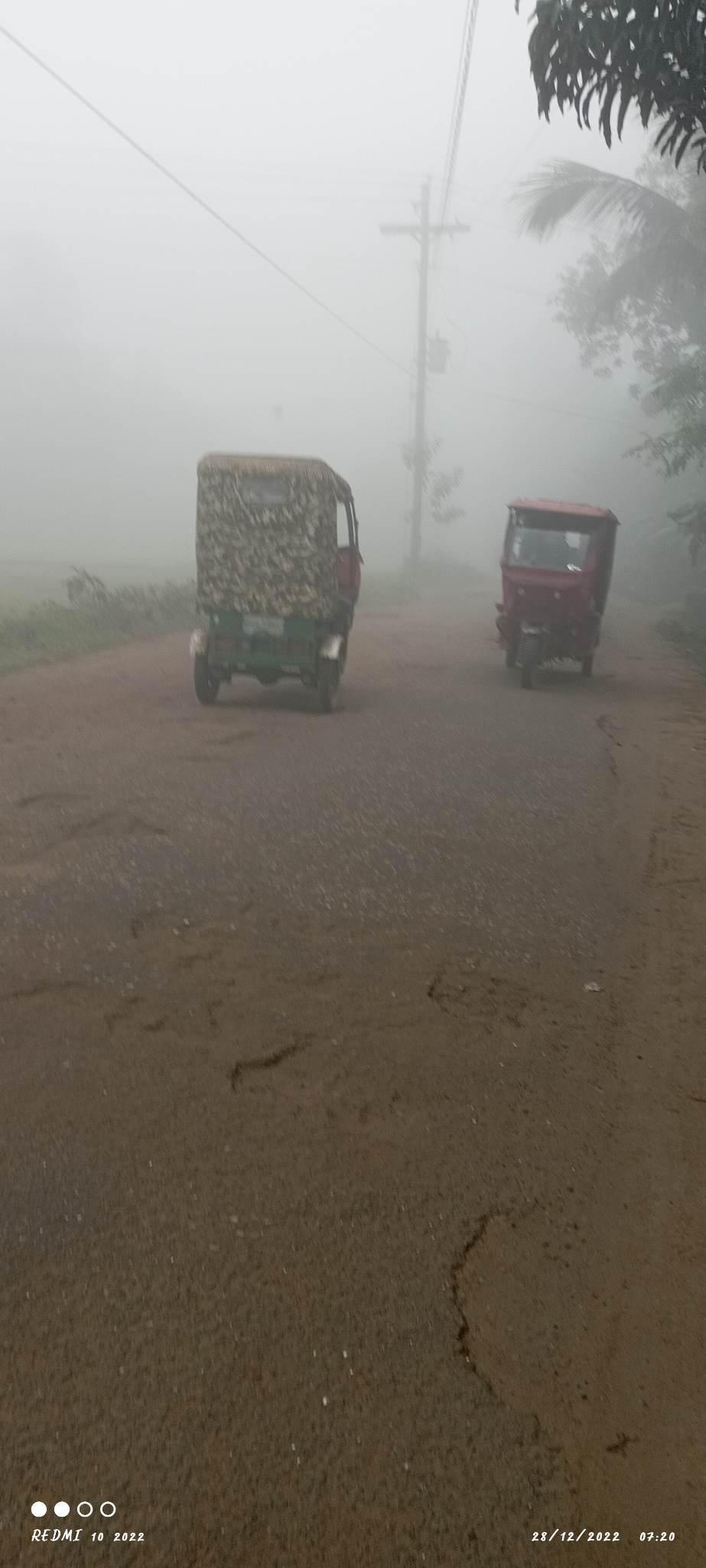Car: (166, 427, 397, 732), (467, 479, 636, 694)
